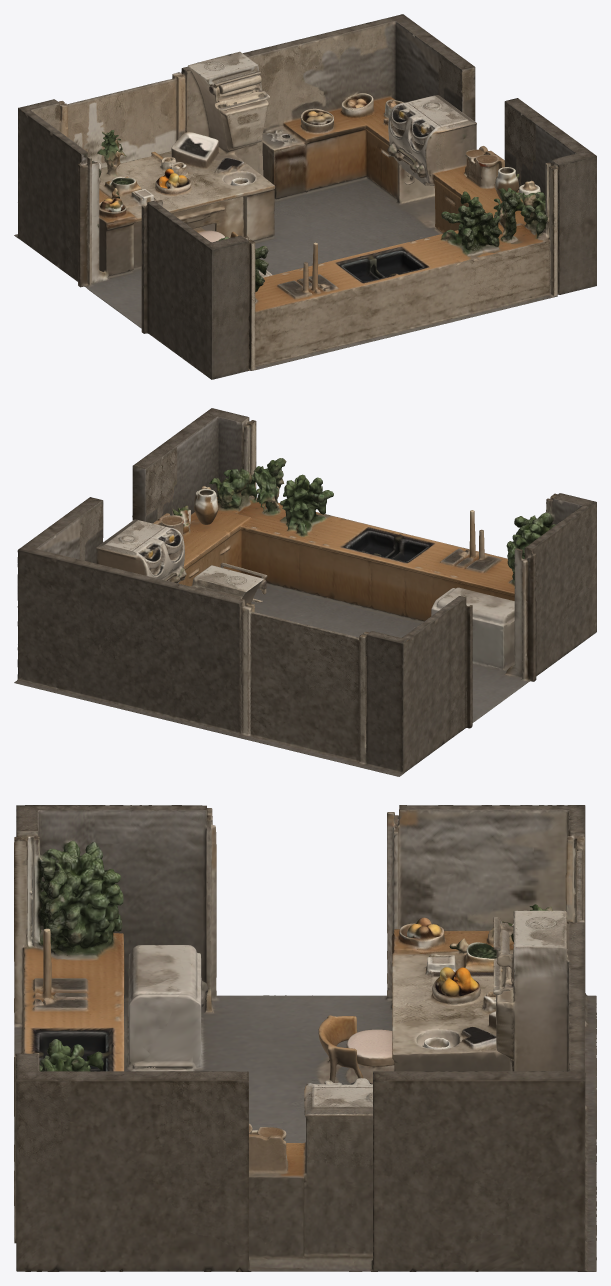
The model's file is kitchen.glb.
3 renders of one model, top to bottom at view 1: azimuth 30°, elevation 25°; view 2: azimuth 150°, elevation 25°; view 3: azimuth 270°, elevation 25°, orthographic. The views are drawn at different scales.
Size of the model in its own units: 1.9 by 0.6489 by 1.68.
Materials: 1 (1 with a texture image).
